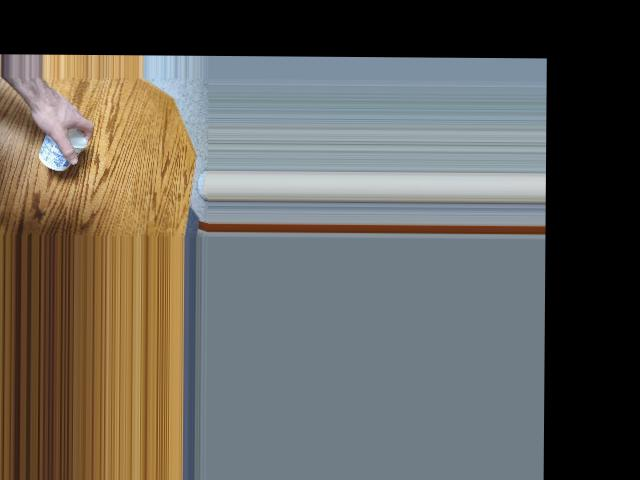cotage: (30, 120, 87, 168)
